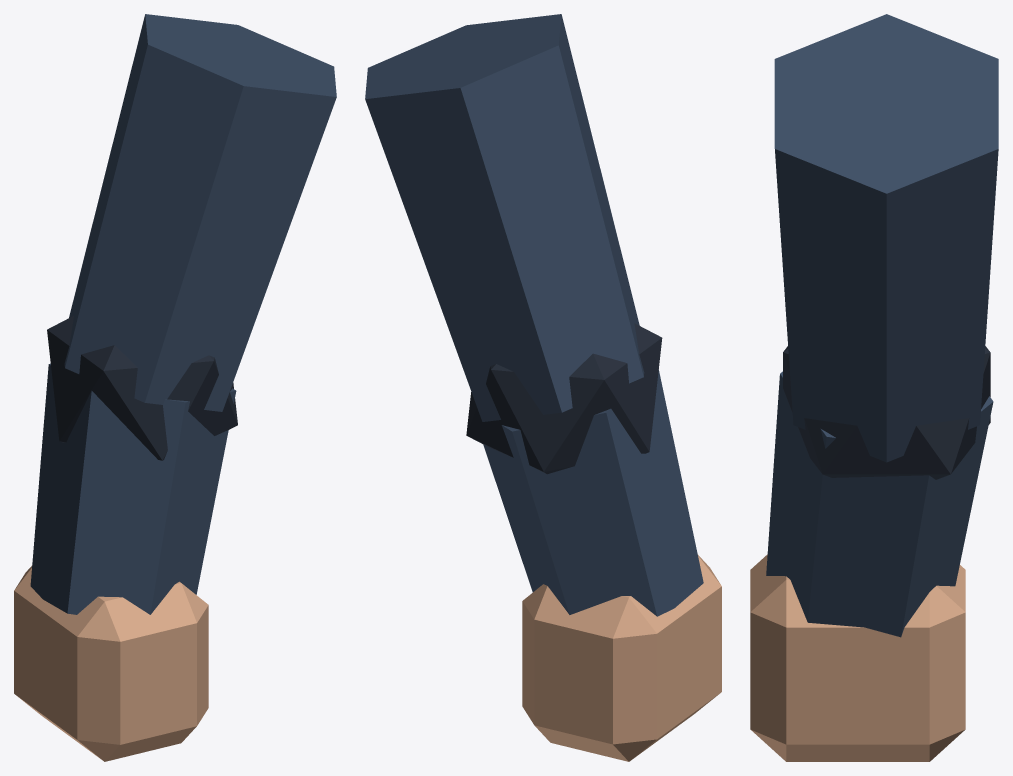
File: SM_NPC_ArmR_001_Sleeve.glb
3 renders of one model, left to right at view 1: azimuth 30°, elevation 25°; view 2: azimuth 150°, elevation 25°; view 3: azimuth 270°, elevation 25°, orthographic. The views are drawn at different scales.
Visible parts, largest first — view 1: SM_NPC_ArmR_001_Sleeve; view 2: SM_NPC_ArmR_001_Sleeve; view 3: SM_NPC_ArmR_001_Sleeve.
Boxes of the visible parts, <box> form: SM_NPC_ArmR_001_Sleeve: <box>14,14,336,761</box>; SM_NPC_ArmR_001_Sleeve: <box>365,14,721,761</box>; SM_NPC_ArmR_001_Sleeve: <box>750,14,998,761</box>.
Size of the model in its own units: 0.275 by 0.5794 by 0.1729.
